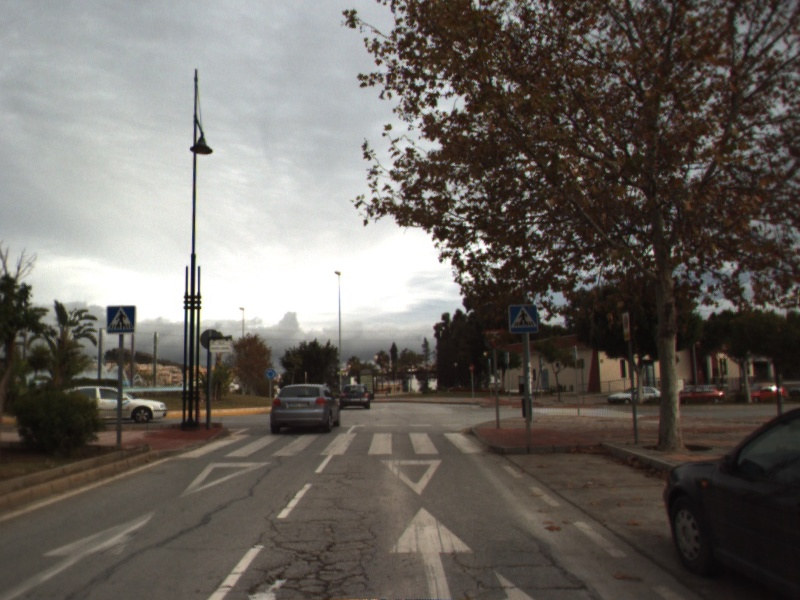STRAIGHT: (1, 505, 160, 600), (385, 502, 477, 600)
